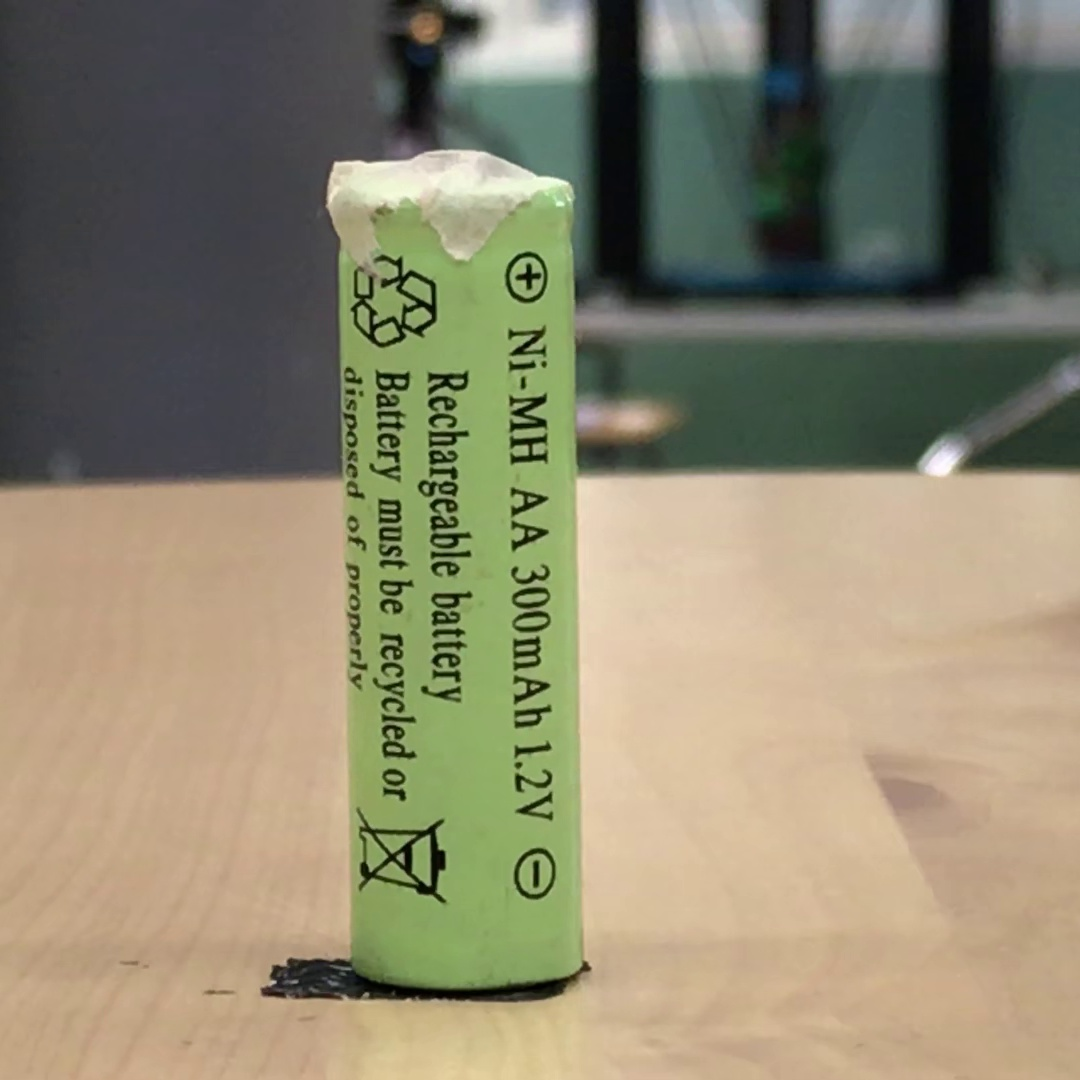keyword: (498, 316, 558, 474), (504, 714, 563, 830)
